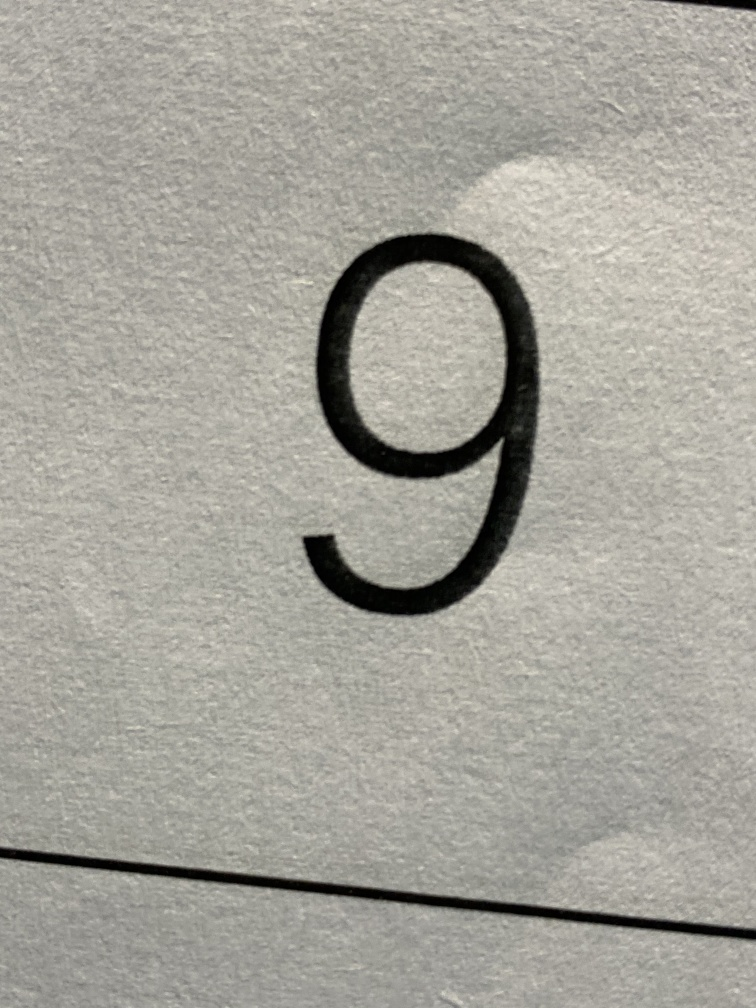nine: (246, 189, 603, 678)
